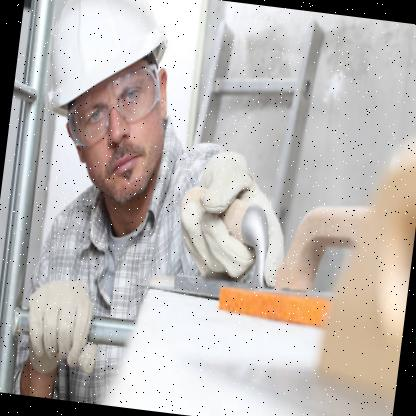capacete: (34, 0, 176, 137)
oculos: (60, 49, 171, 159)
